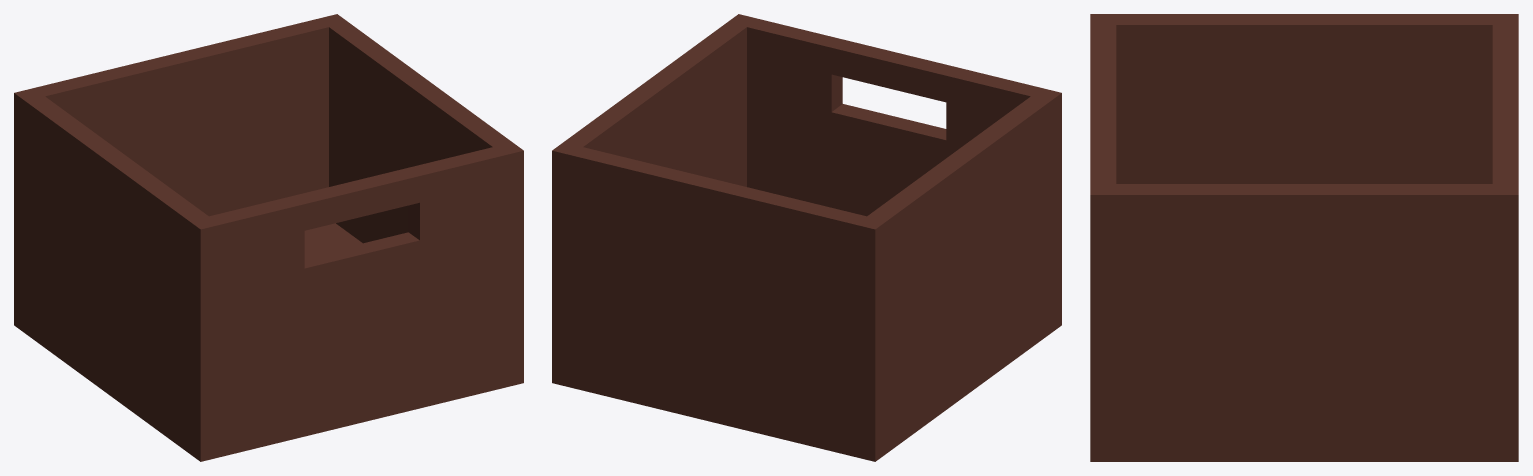
3 views of the same model, side by side, from view 1: azimuth 30°, elevation 25°; view 2: azimuth 150°, elevation 25°; view 3: azimuth 270°, elevation 25° (orthographic). The views are drawn at different scales.
Visible parts, largest first — view 1: Caisse; view 2: Caisse; view 3: Caisse.
Part boxes in pixels (x1,y1,x2,y2): Caisse: [14, 14, 523, 461]; Caisse: [552, 14, 1061, 461]; Caisse: [1090, 14, 1518, 461].
Bounding box in the file's own units: 0.4147 × 0.4147 × 0.2849.
